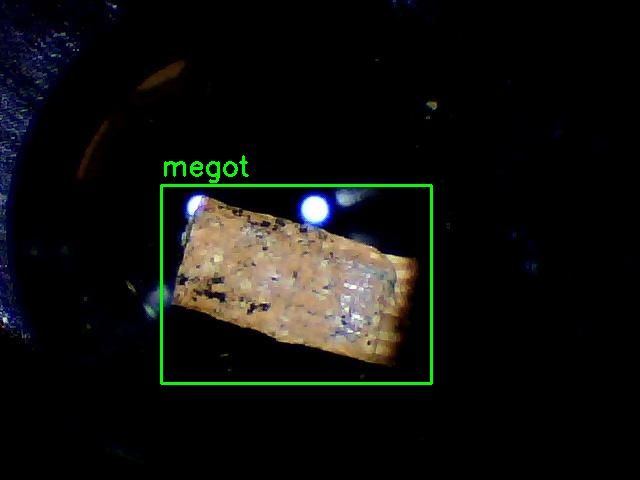megot: (161, 185, 431, 383)
